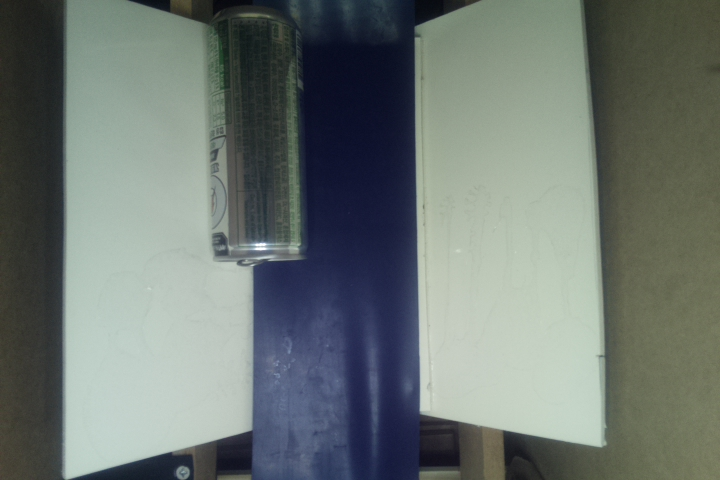can: (204, 9, 306, 269)
